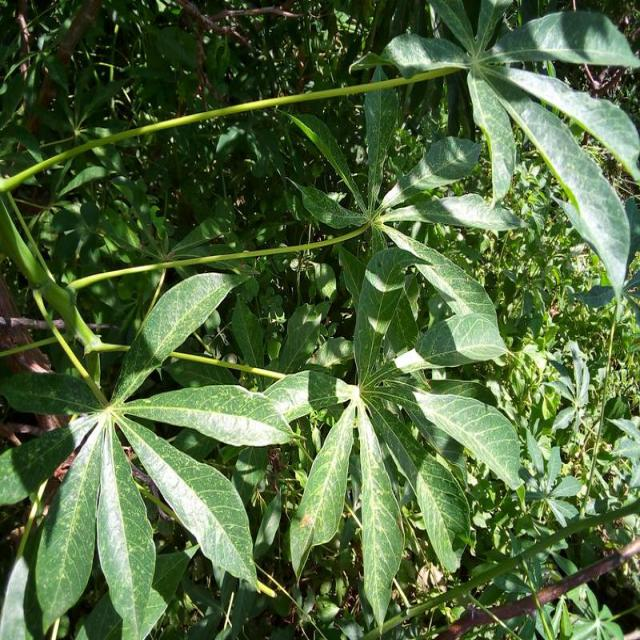cassava leaf: (0, 1, 638, 637), (1, 270, 294, 638)
